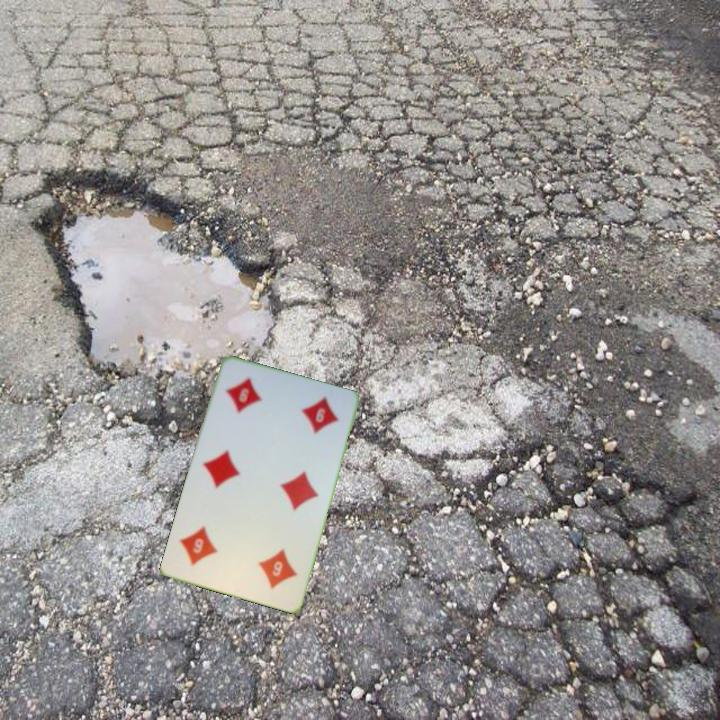d_6.png: (213, 365, 292, 438), (229, 529, 308, 602)
